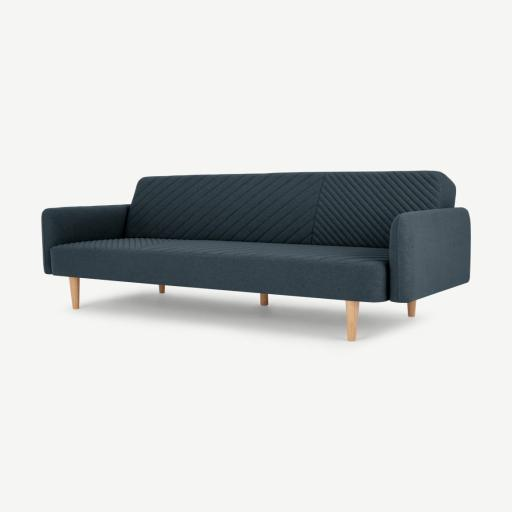back_cushion: (124, 171, 455, 248)
left_arm: (389, 207, 470, 316)
legs: (340, 300, 359, 341), (70, 277, 80, 309), (254, 294, 268, 305), (408, 301, 415, 317), (159, 285, 164, 293)
right_arm: (42, 205, 129, 274)
seat_cushion: (52, 238, 389, 302)
two-seater: (0, 0, 511, 512)
